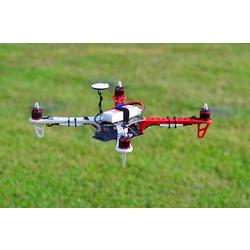drone: (21, 74, 240, 171)
